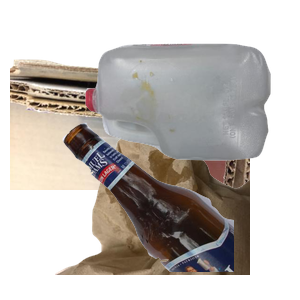cardboard: (10, 57, 250, 237)
glass: (60, 120, 300, 300)
plastic: (83, 41, 300, 194)
trash: (52, 120, 292, 300)
